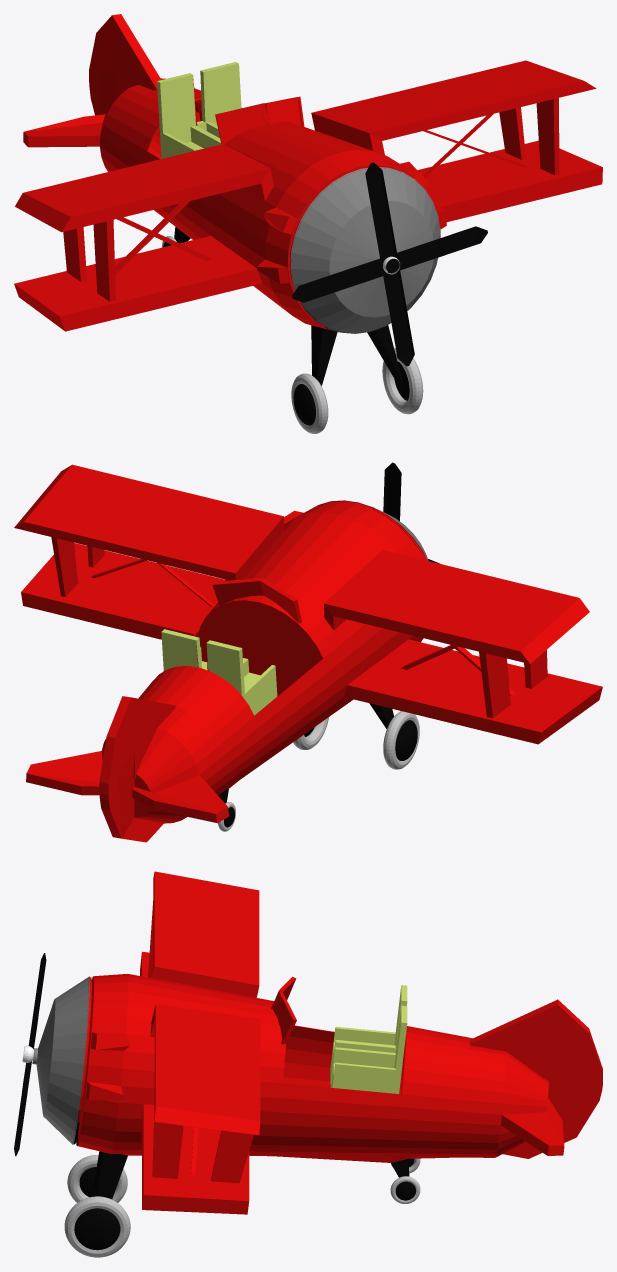
The model's file is airplane only.glb.
3 renders of one model, top to bottom at view 1: azimuth 30°, elevation 25°; view 2: azimuth 150°, elevation 25°; view 3: azimuth 270°, elevation 25°, orthographic. The views are drawn at different scales.
Visible parts, largest first — view 1: Cylinder.001; view 2: Cylinder.001; view 3: Cylinder.001.
Part boxes in pixels (<box>): Cylinder.001: <box>14,14,602,433</box>; Cylinder.001: <box>14,462,602,842</box>; Cylinder.001: <box>14,871,602,1257</box>.
Bounding box in the file's own units: 7.24 × 3.6 × 6.96.
11 materials, 2 textured.
